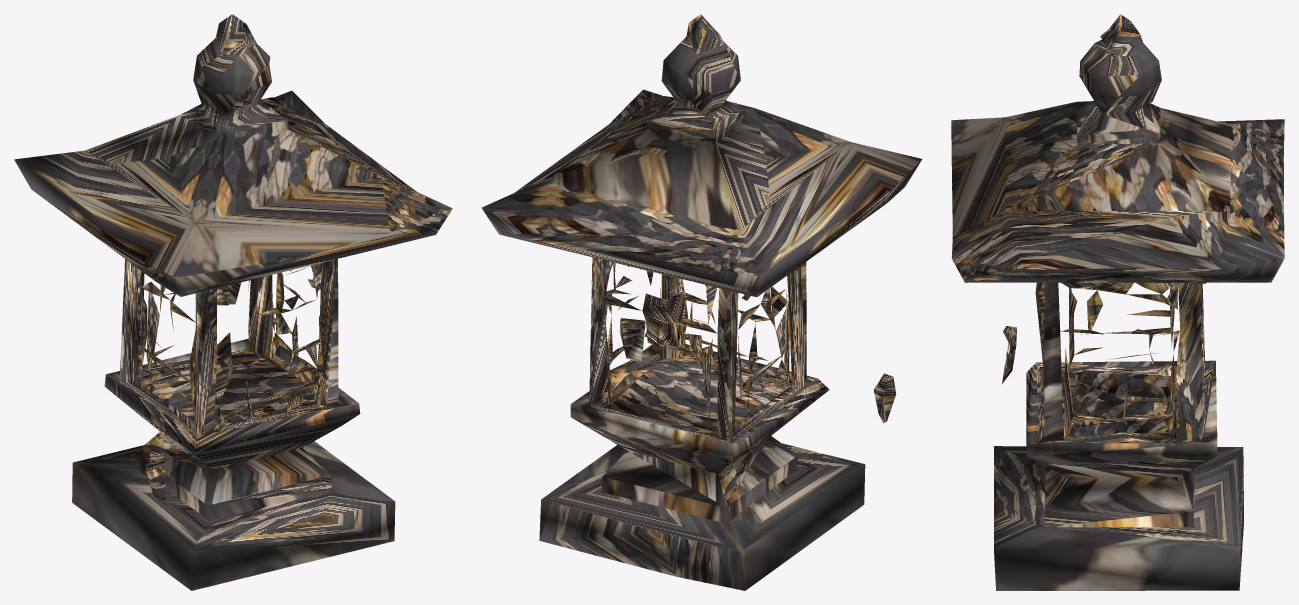
File: Stone_Lantern.glb
3 views of the same model, side by side, from view 1: azimuth 30°, elevation 25°; view 2: azimuth 150°, elevation 25°; view 3: azimuth 270°, elevation 25° (orthographic). The views are drawn at different scales.
Parts seen in each view (by area): view 1: Stone_Lantern; view 2: Stone_Lantern; view 3: Stone_Lantern.
Boxes of the visible parts, box(x1,y1,x2,y2) form: Stone_Lantern: box(14, 14, 452, 590); Stone_Lantern: box(482, 14, 922, 590); Stone_Lantern: box(951, 14, 1284, 590).
Size of the model in its own units: 1.15 by 1.99 by 1.15.
Materials: 1 (1 with a texture image).
